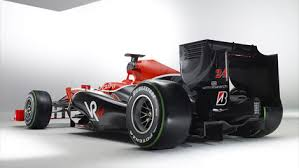FormulaOneCar: (9, 38, 288, 152)
